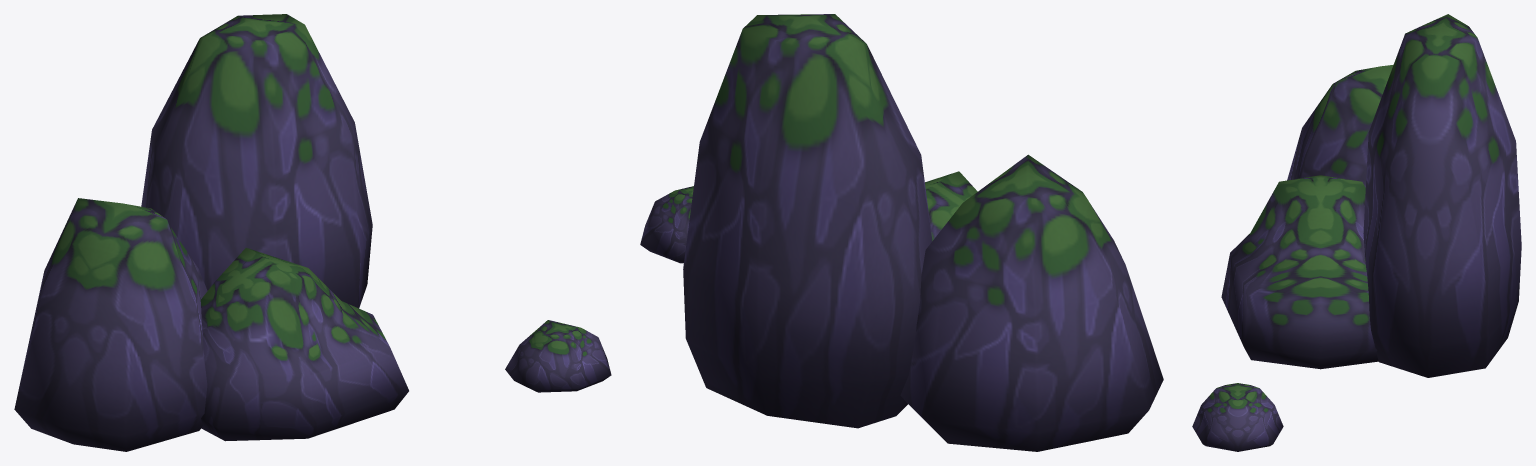
File: Rock_01_Group.FBX
The picture shows the model from 3 angles, left to right: view 1: azimuth 30°, elevation 25°; view 2: azimuth 150°, elevation 25°; view 3: azimuth 270°, elevation 25°; orthographic projection. The views are drawn at different scales.
Parts seen in each view (by area): view 1: Rock_01_Group; view 2: Rock_01_Group; view 3: Rock_01_Group.
Part boxes in pixels (left/top/right/bottom): Rock_01_Group: left=14, top=14, right=611, bottom=451; Rock_01_Group: left=640, top=14, right=1163, bottom=451; Rock_01_Group: left=1192, top=14, right=1521, bottom=451.
Bounding box in the file's own units: 289 × 174 × 166.
